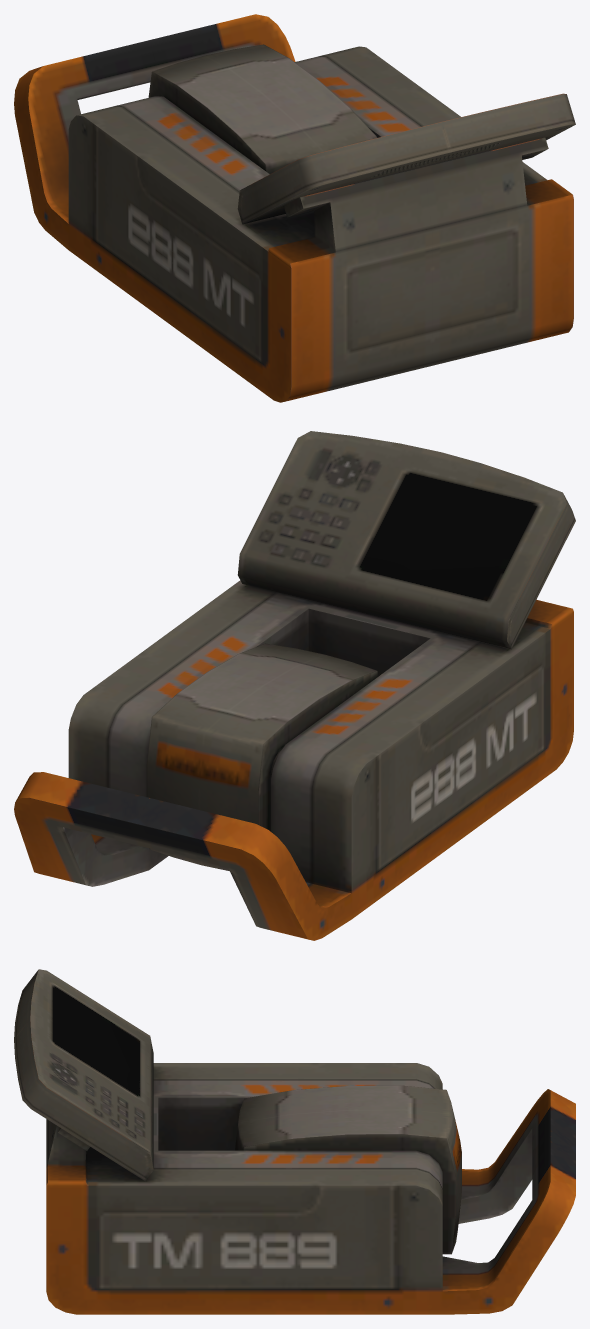
The model's file is TechScanner01.FBX.
The picture shows the model from 3 angles, top to bottom: view 1: azimuth 30°, elevation 25°; view 2: azimuth 150°, elevation 25°; view 3: azimuth 270°, elevation 25°; orthographic projection. The views are drawn at different scales.
Parts seen in each view (by area): view 1: TechScanner01; view 2: TechScanner01; view 3: TechScanner01.
Part boxes in pixels (x1,y1,x2,y2): TechScanner01: [14, 14, 575, 402]; TechScanner01: [14, 431, 575, 940]; TechScanner01: [14, 969, 575, 1314].
Bounding box in the file's own units: 0.4141 × 0.3687 × 0.8.
